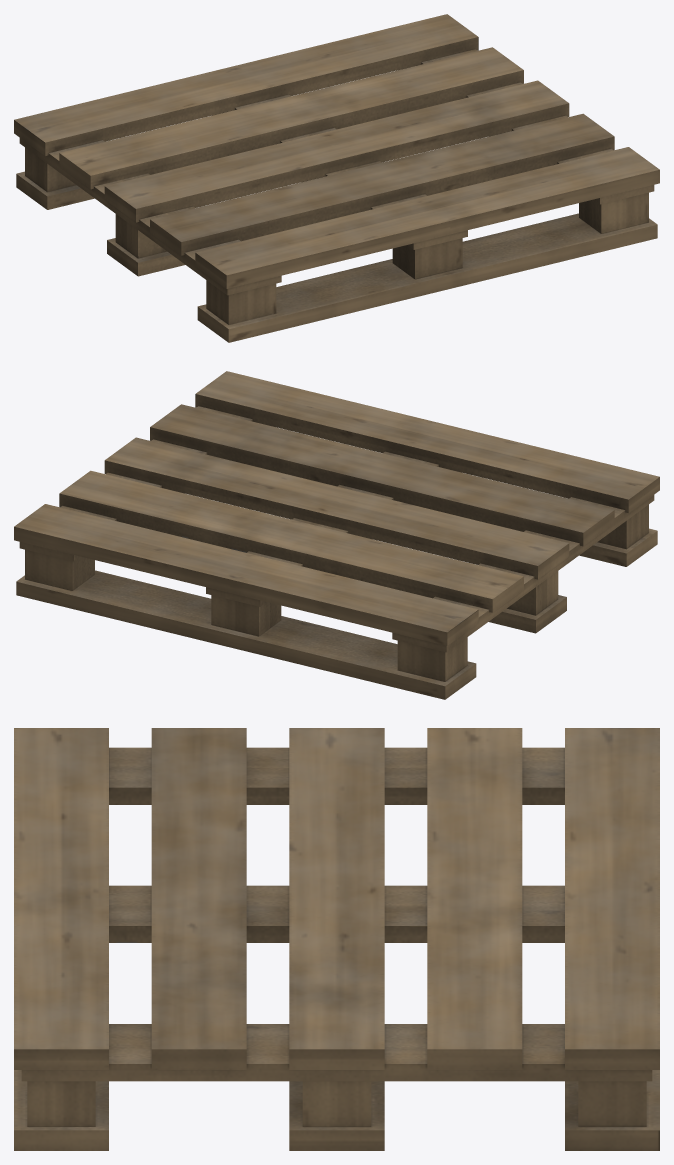
The model's file is W2_Pallet.fbx.
3 views of the same model, one above another, from view 1: azimuth 30°, elevation 25°; view 2: azimuth 150°, elevation 25°; view 3: azimuth 270°, elevation 25° (orthographic). The views are drawn at different scales.
Parts seen in each view (by area): view 1: W2_Pallet; view 2: W2_Pallet; view 3: W2_Pallet.
Boxes of the visible parts, box(x1,y1,x2,y2) form: W2_Pallet: box(14, 14, 659, 342); W2_Pallet: box(14, 371, 659, 699); W2_Pallet: box(14, 728, 659, 1150).
Size of the model in its own units: 400 by 60 by 340.
1 material, 1 textured.
